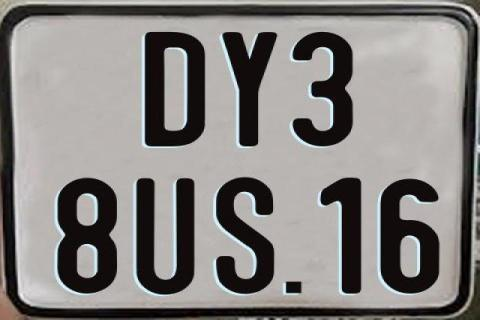0: (56, 176, 118, 296), (292, 31, 353, 149), (380, 176, 442, 292), (317, 177, 360, 293)
D: (142, 31, 206, 151)
S: (216, 174, 274, 296)
U: (133, 176, 192, 292)
Y: (221, 30, 276, 146)
